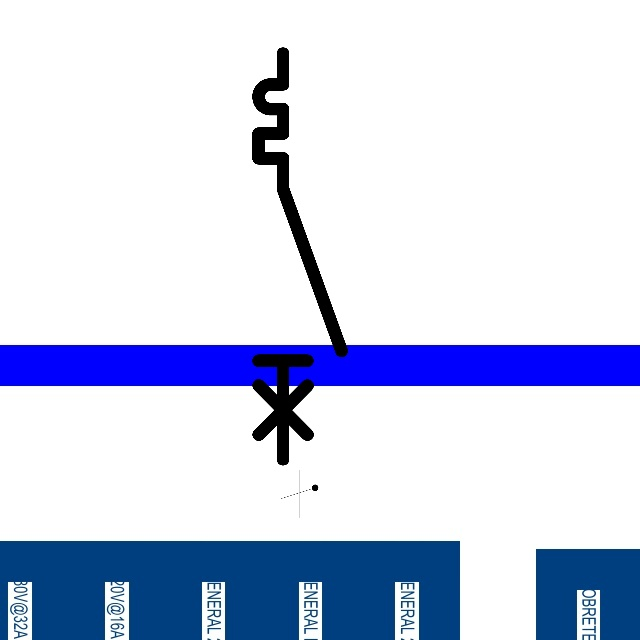interruptor_termomagnetico: (248, 43, 352, 470)
